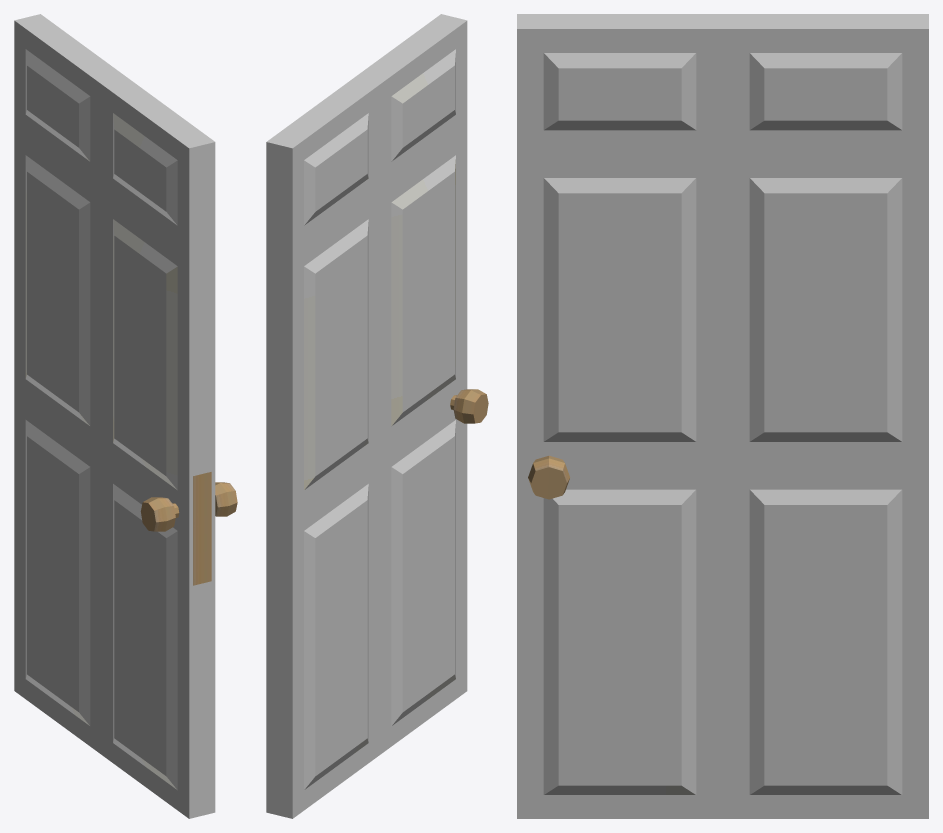
File: door.glb
3 renders of one model, left to right at view 1: azimuth 30°, elevation 25°; view 2: azimuth 150°, elevation 25°; view 3: azimuth 270°, elevation 25°, orthographic. The views are drawn at different scales.
Parts seen in each view (by area): view 1: node-0; view 2: node-0; view 3: node-0.
Boxes of the visible parts, x1,y1,x2,y2 form: node-0: (14,14,237,818); node-0: (266,14,488,818); node-0: (517,14,928,818).
Size of the model in its own units: 0.4998 by 3.92 by 1.85.
Materials: 1 (1 with a texture image).
